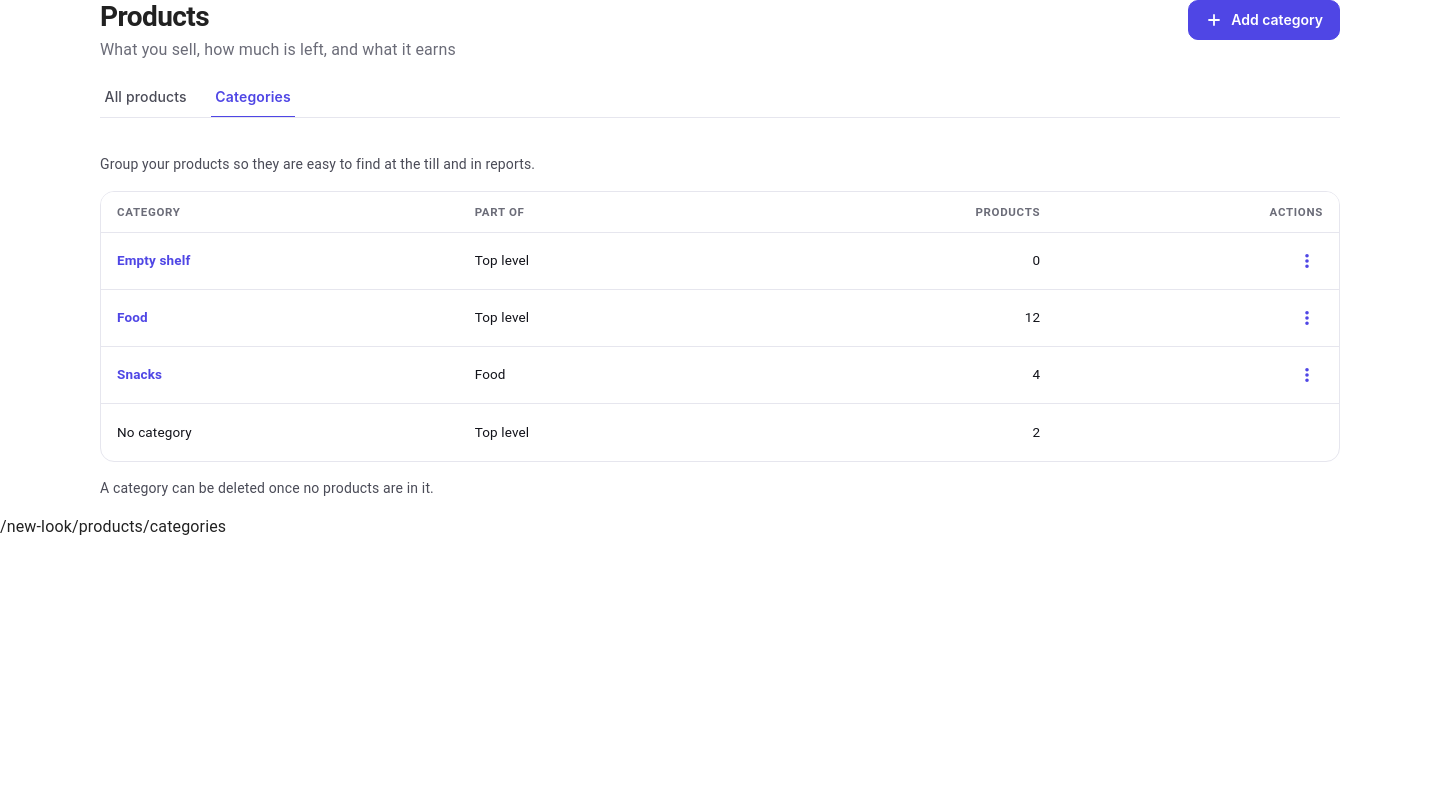
Scenario: adding a category › the header button opens a short dialog, and Save adds the category and shows it
Step 1. Click the button "Add category" → (1264, 20), box 1188,0 -> 1340,40
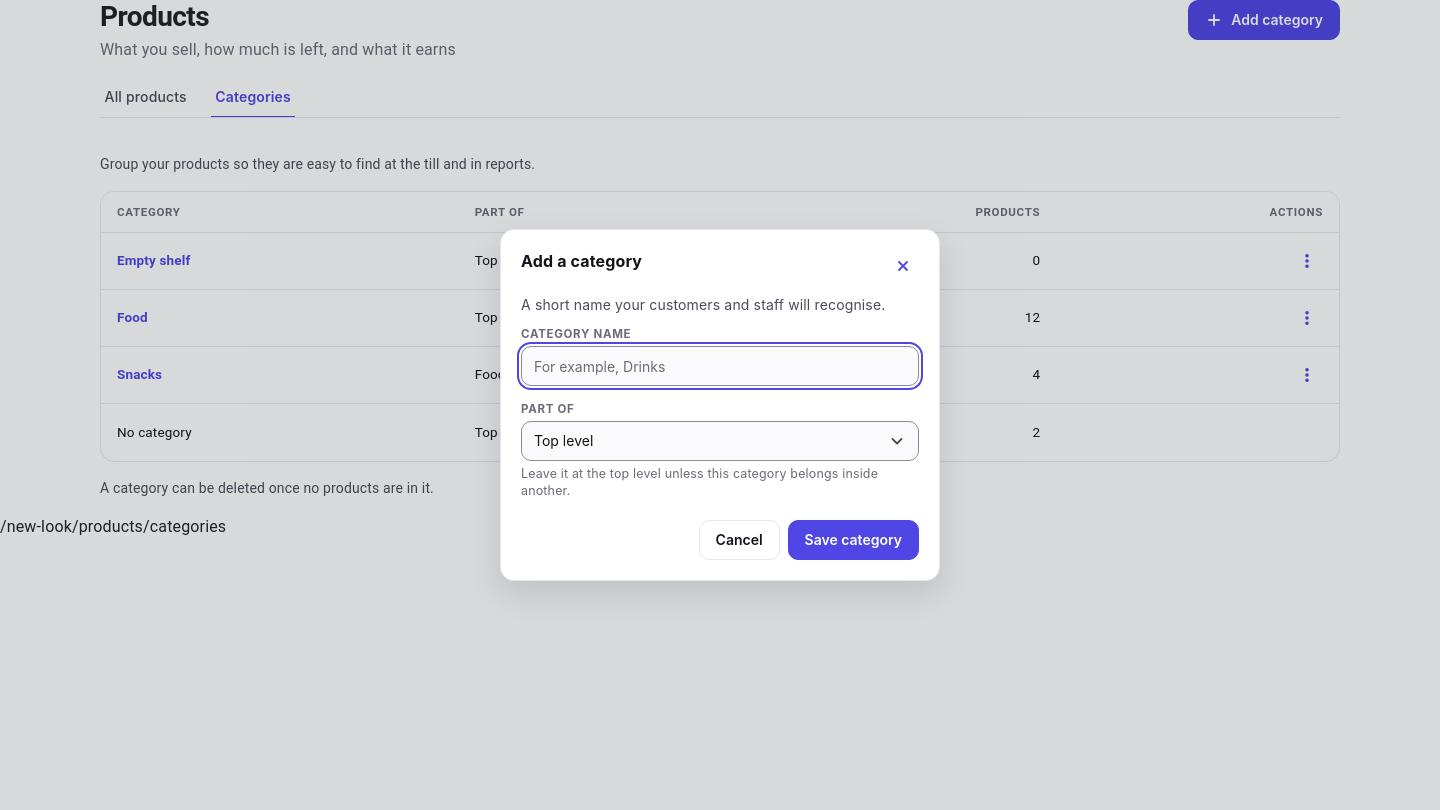
Step 2. Type "Drinks" into the field labelled "Category name" → (720, 366), box 522,347 -> 918,385
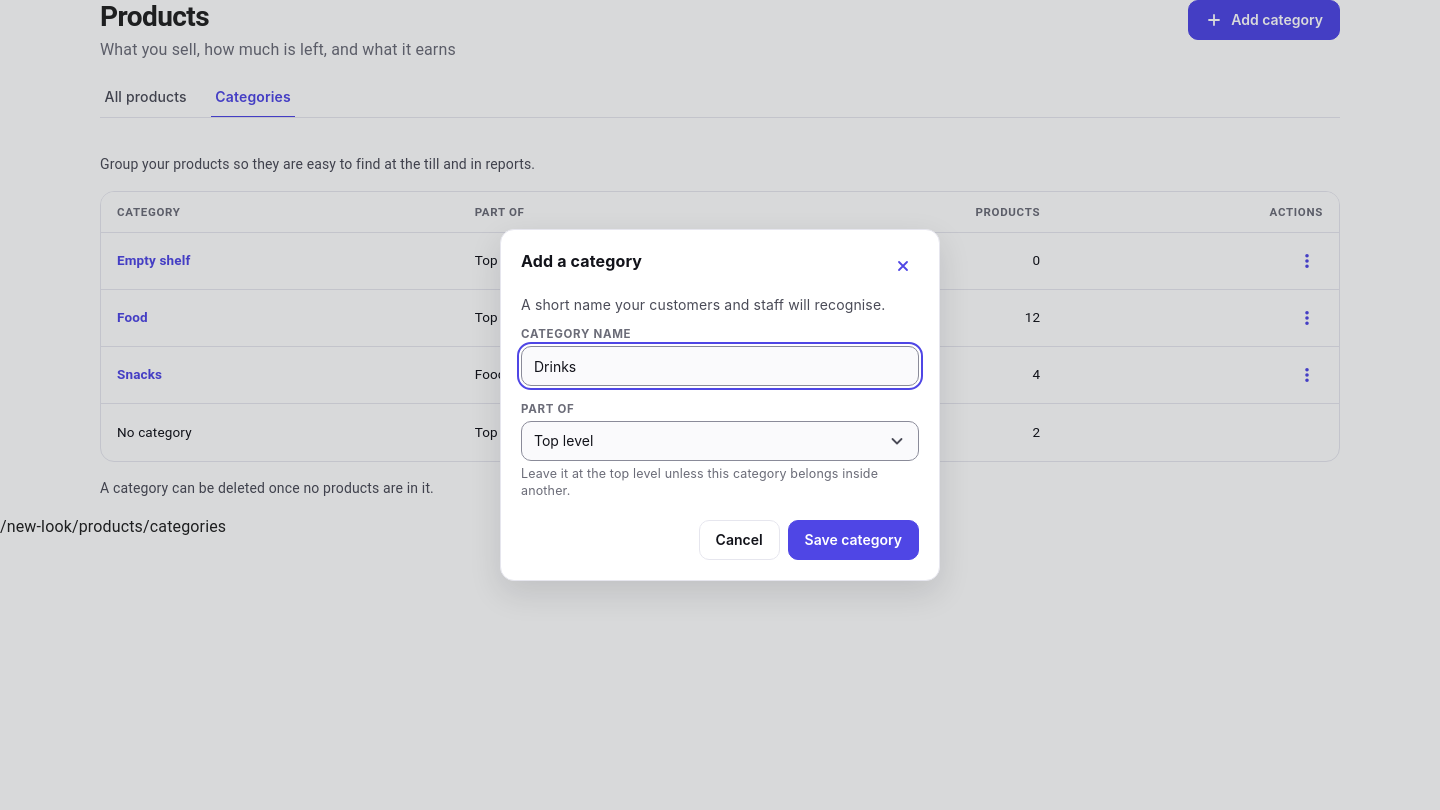
Step 3. Click the button "Save category" → (853, 540), box 788,520 -> 919,560
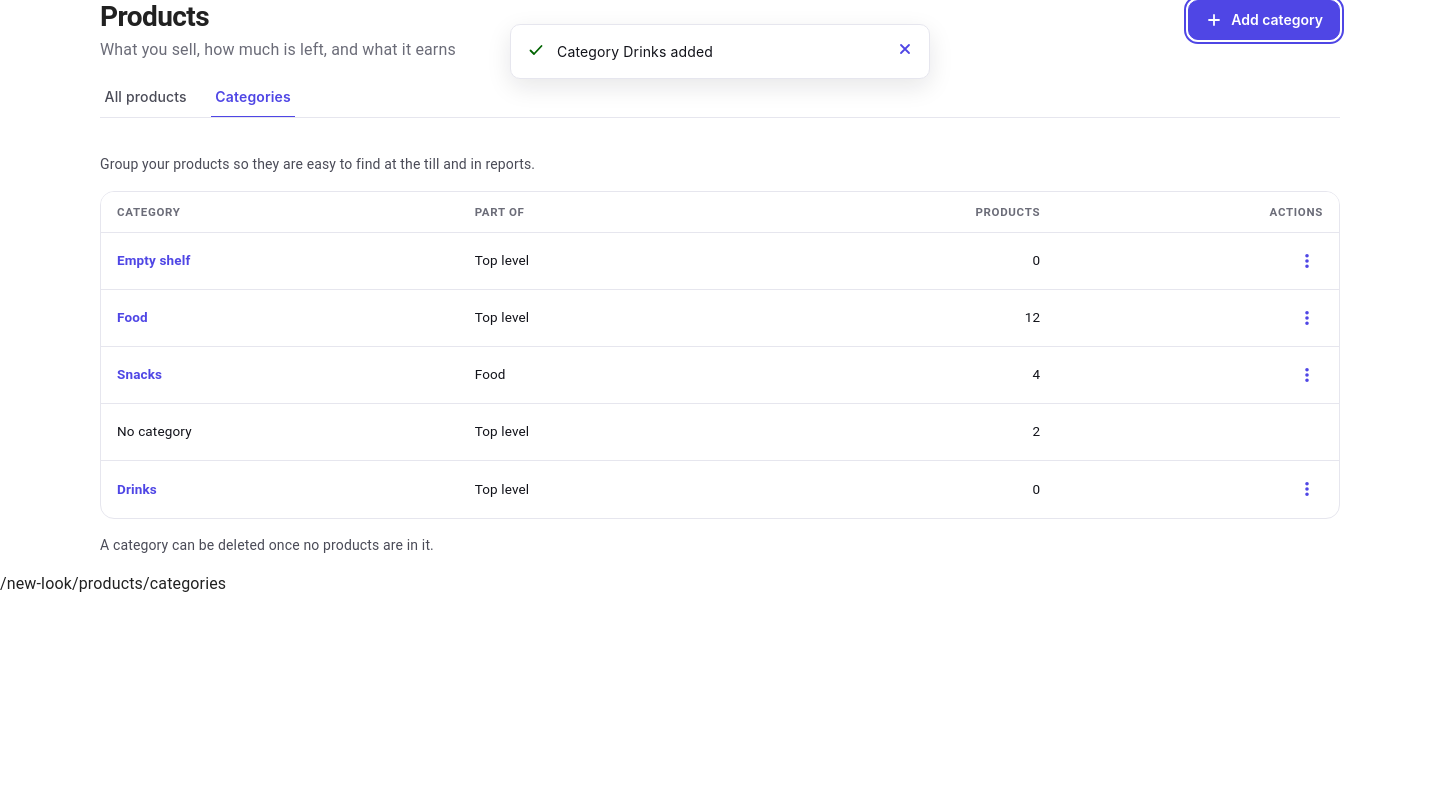
Expected: the text "Category Drinks added" is shown, 557,43 -> 713,60
Expected: the dialog is gone
